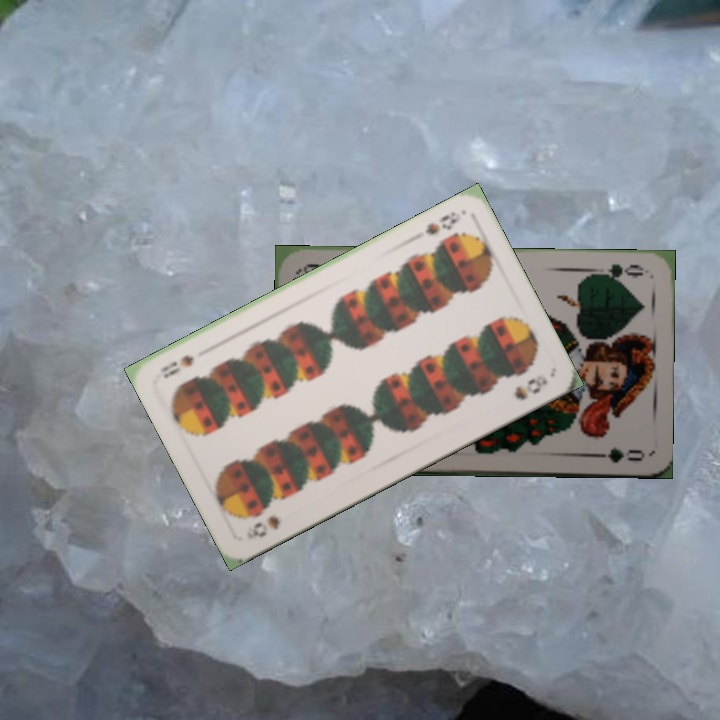GO: (590, 260, 646, 283)
S8: (421, 207, 464, 238), (248, 511, 283, 540)
